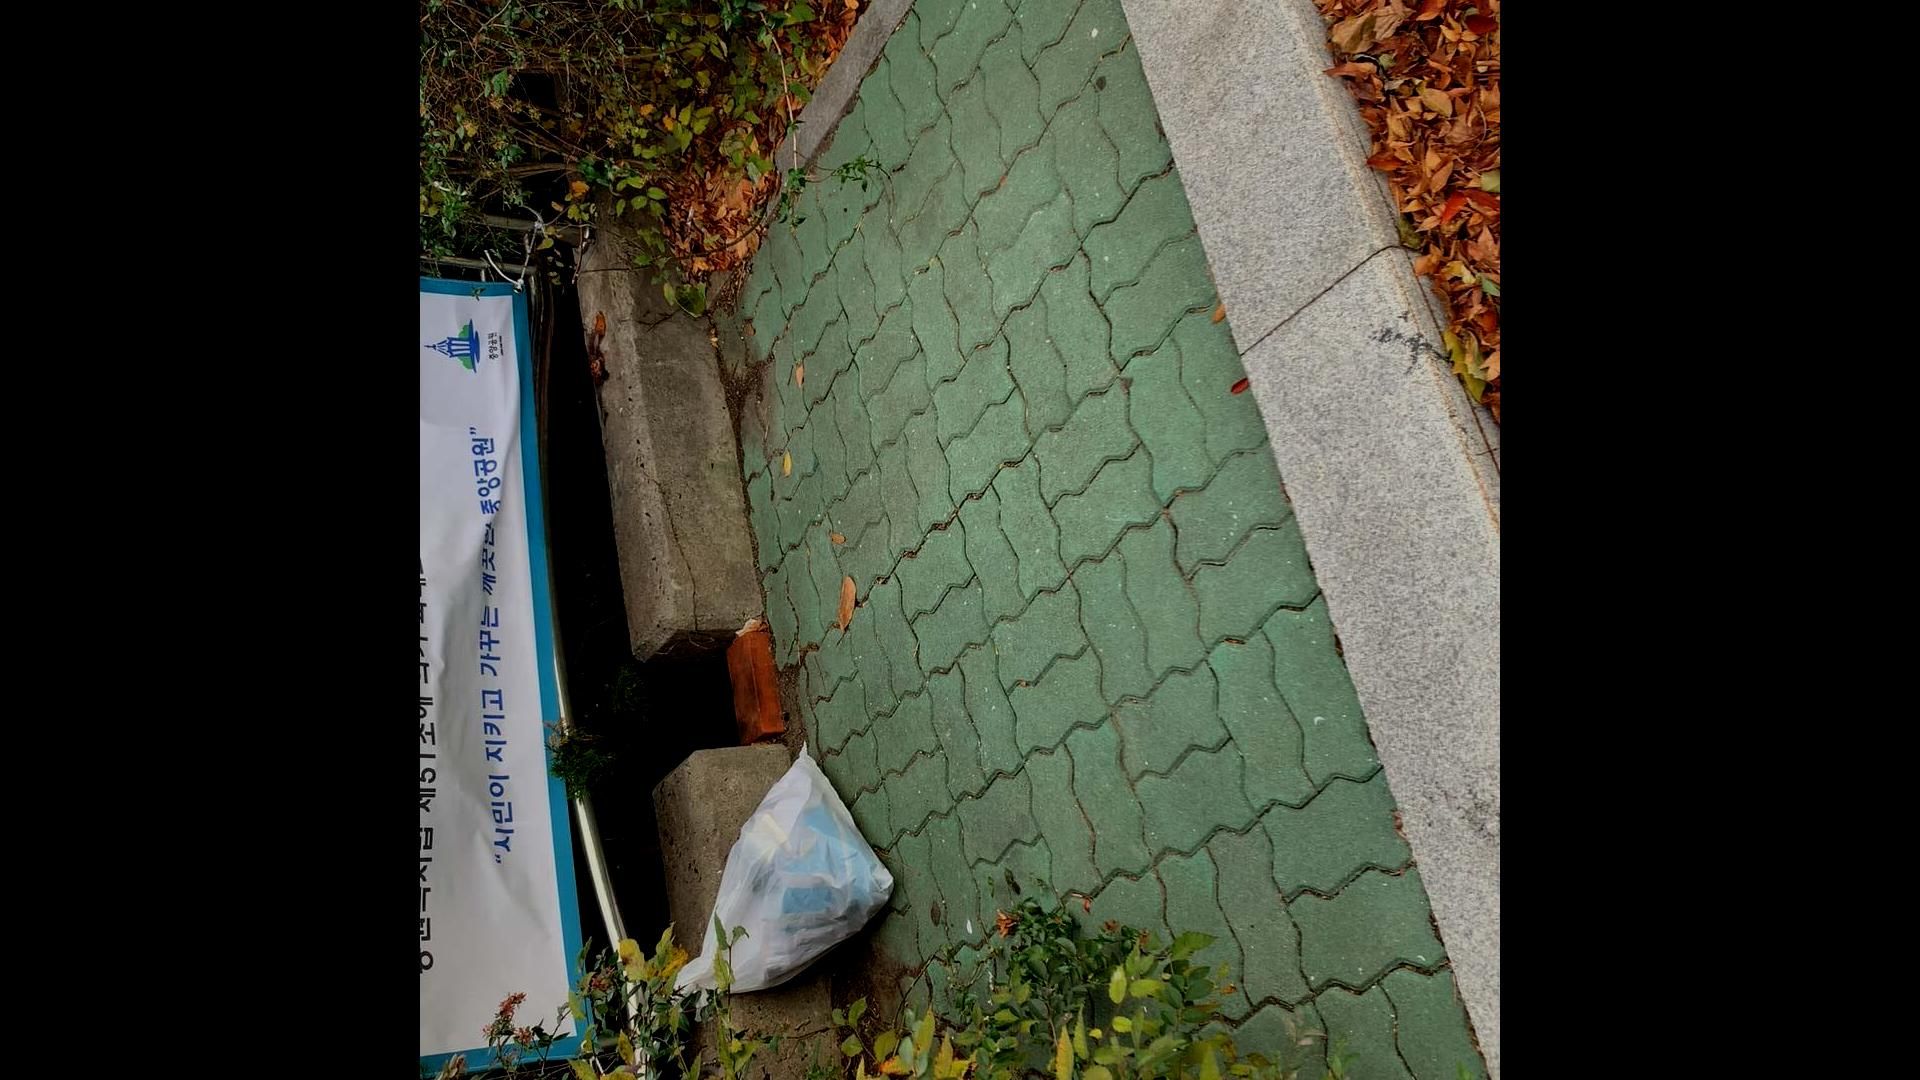white_bag: (662, 727, 909, 1011)
